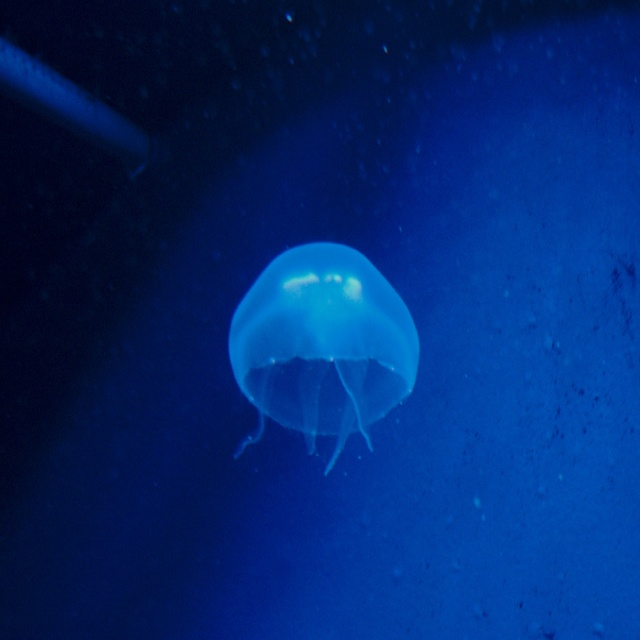Jellyfish: (232, 239, 423, 482)
